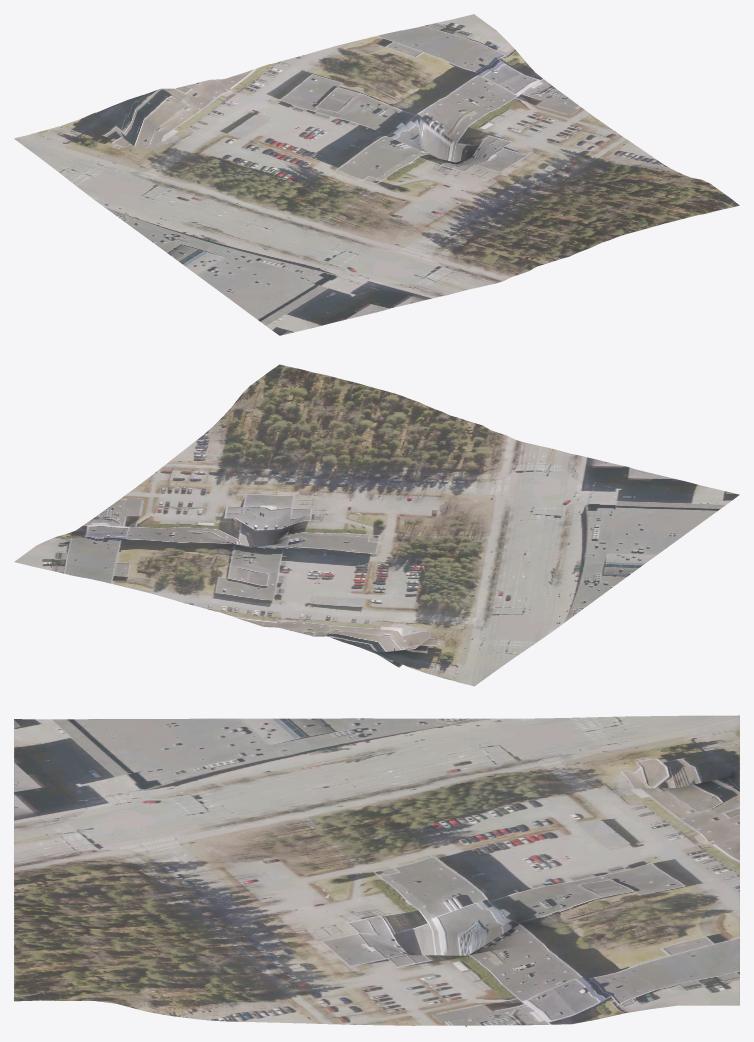
File: CM_Terrain_24492097_6815698.fbx
The picture shows the model from 3 angles, top to bottom: view 1: azimuth 30°, elevation 25°; view 2: azimuth 150°, elevation 25°; view 3: azimuth 270°, elevation 25°; orthographic projection. The views are drawn at different scales.
Visible parts, largest first — view 1: CM_Terrain_24492097_6815698_LOD0; view 2: CM_Terrain_24492097_6815698_LOD0; view 3: CM_Terrain_24492097_6815698_LOD0.
Part boxes in pixels (x1=…): CM_Terrain_24492097_6815698_LOD0: x1=14, y1=14, x2=739, y2=335; CM_Terrain_24492097_6815698_LOD0: x1=14, y1=364, x2=739, y2=686; CM_Terrain_24492097_6815698_LOD0: x1=14, y1=715, x2=739, y2=1027.
Size of what is drawn, in the model's own units: 205 by 37.03 by 205.
